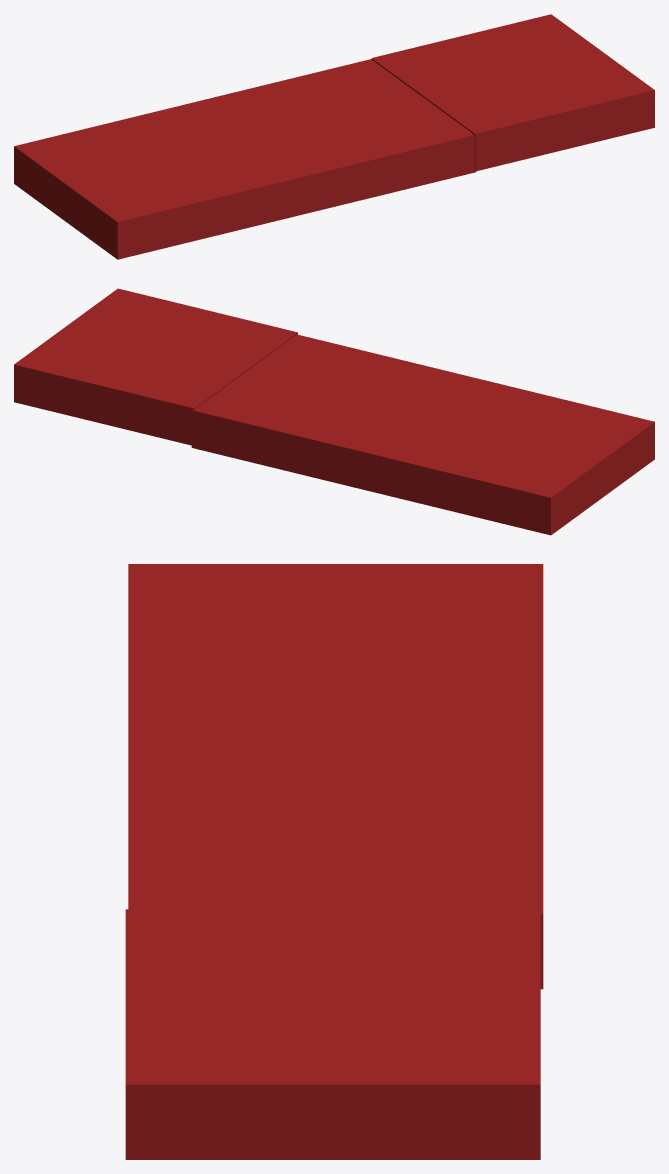
Rendered from street3.fbx.
3 renders of one model, top to bottom at view 1: azimuth 30°, elevation 25°; view 2: azimuth 150°, elevation 25°; view 3: azimuth 270°, elevation 25°, orthographic. The views are drawn at different scales.
Parts seen in each view (by area): view 1: pCube4; view 2: pCube4; view 3: pCube4.
Boxes of the visible parts, <box> form: pCube4: <box>14,14,654,259</box>; pCube4: <box>14,288,654,535</box>; pCube4: <box>125,564,543,1159</box>.
Bounding box in the file's own units: 2.99 × 0.2084 × 1.01.
